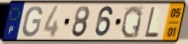4: (42, 5, 61, 40)
6: (94, 5, 114, 39)
8: (70, 5, 91, 39)
G: (21, 5, 44, 38)
L: (143, 5, 160, 39)
Q: (120, 4, 144, 40)
